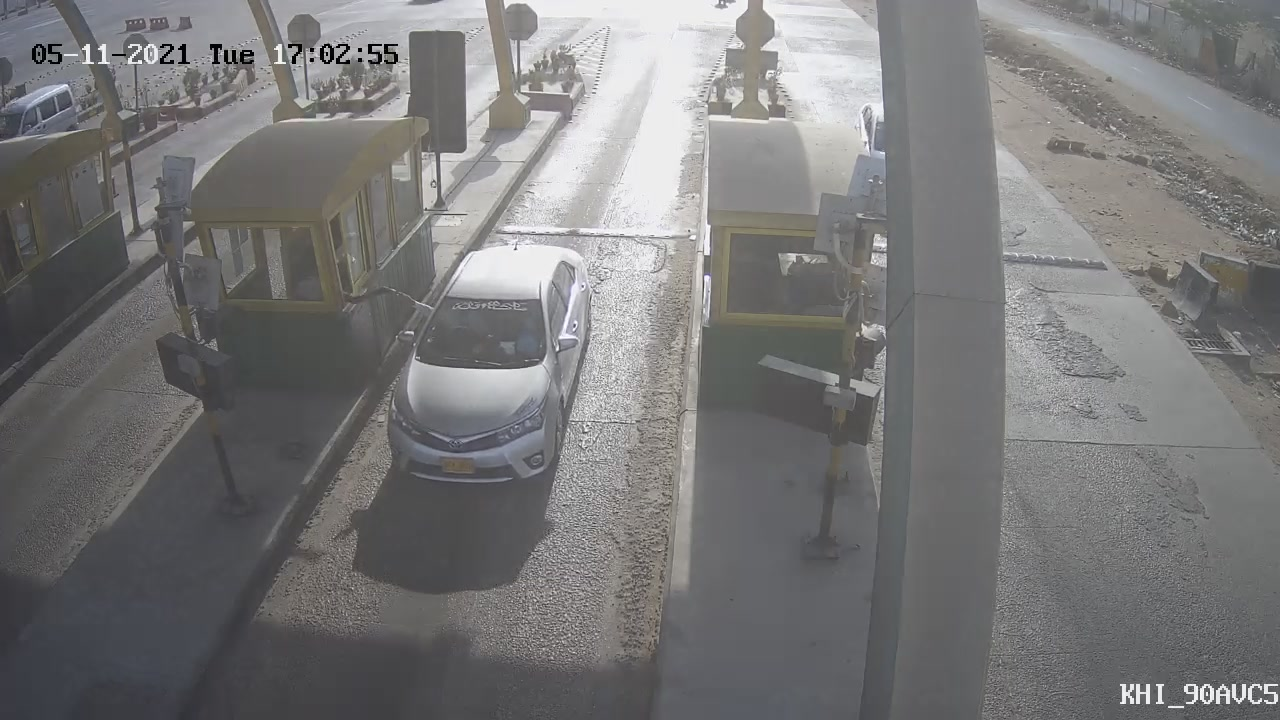F1: (355, 217, 624, 512)
